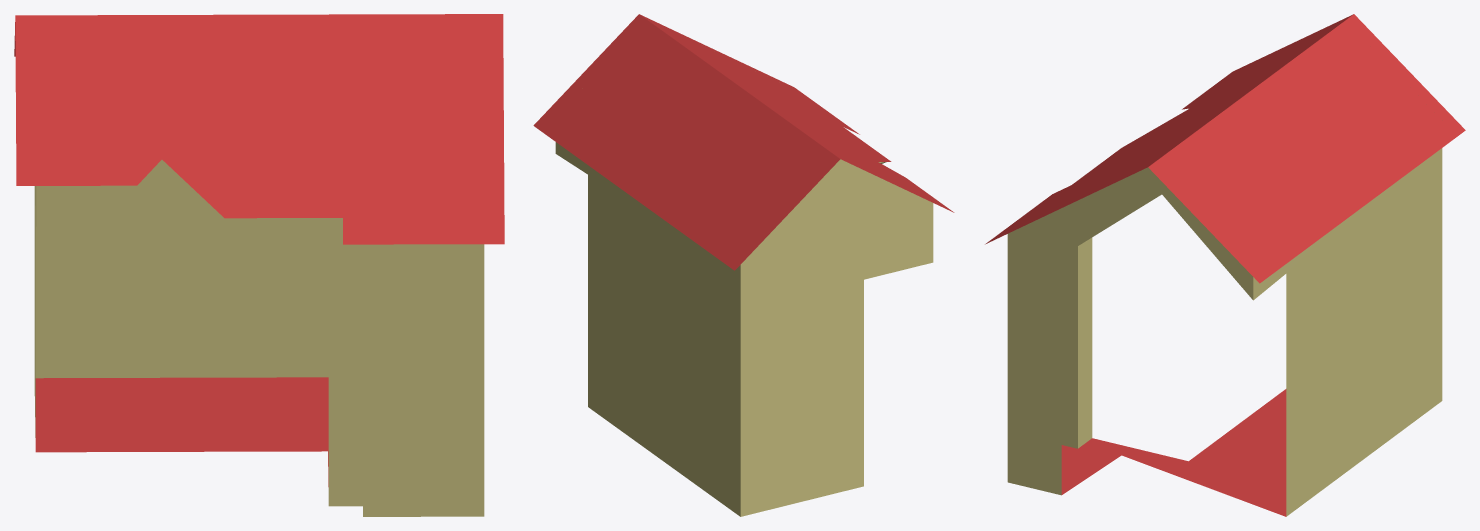
The picture shows the model from 3 angles, left to right: view 1: azimuth 30°, elevation 25°; view 2: azimuth 150°, elevation 25°; view 3: azimuth 270°, elevation 25°; orthographic projection. The views are drawn at different scales.
Bounding box in the file's own units: 21.62 × 21.03 × 17.21.
